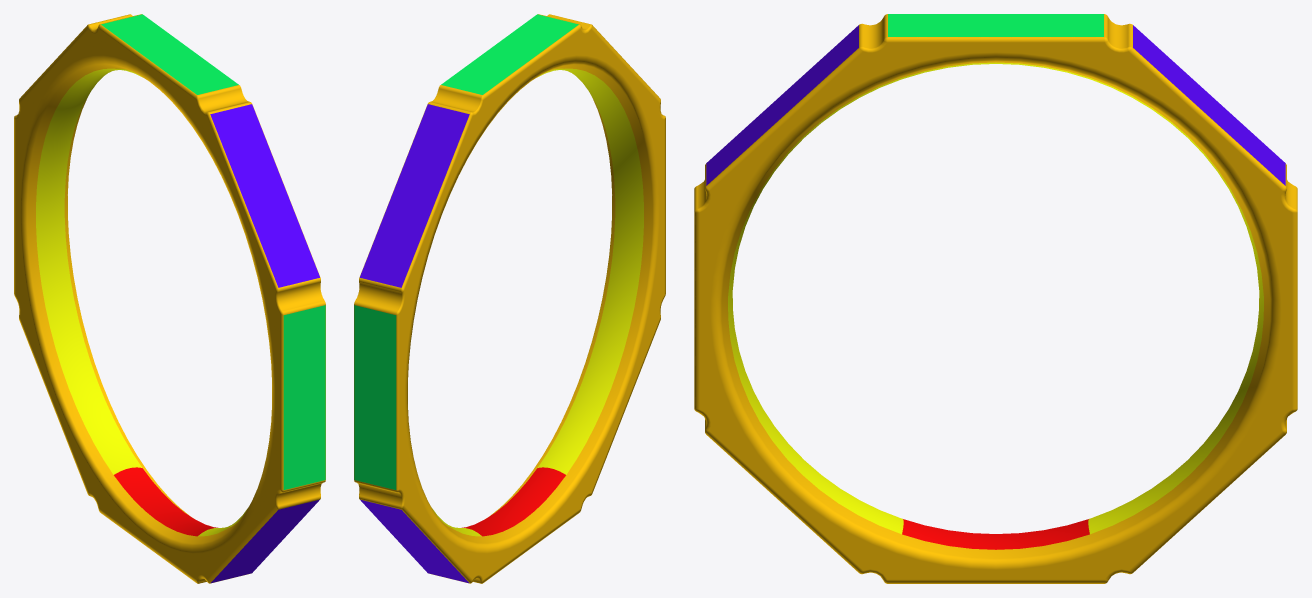
3 renders of one model, left to right at view 1: azimuth 30°, elevation 25°; view 2: azimuth 150°, elevation 25°; view 3: azimuth 270°, elevation 25°, orthographic. The views are drawn at different scales.
Visible parts, largest first — view 1: IN1198; view 2: IN1198; view 3: IN1198.
Boxes of the visible parts, x1,y1,x2,y2 form: IN1198: (14, 14, 325, 583); IN1198: (354, 14, 665, 583); IN1198: (694, 14, 1297, 583).
Bounding box in the file's own units: 0.002 × 0.0212 × 0.0212.
